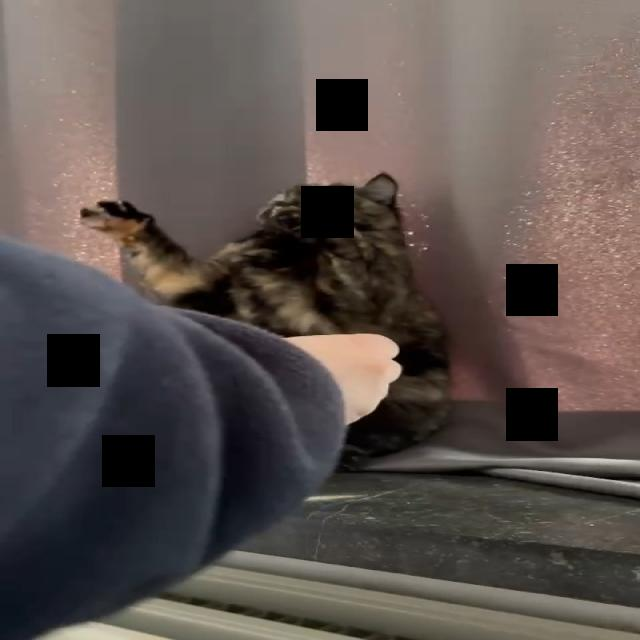authorized: (77, 170, 455, 468)
